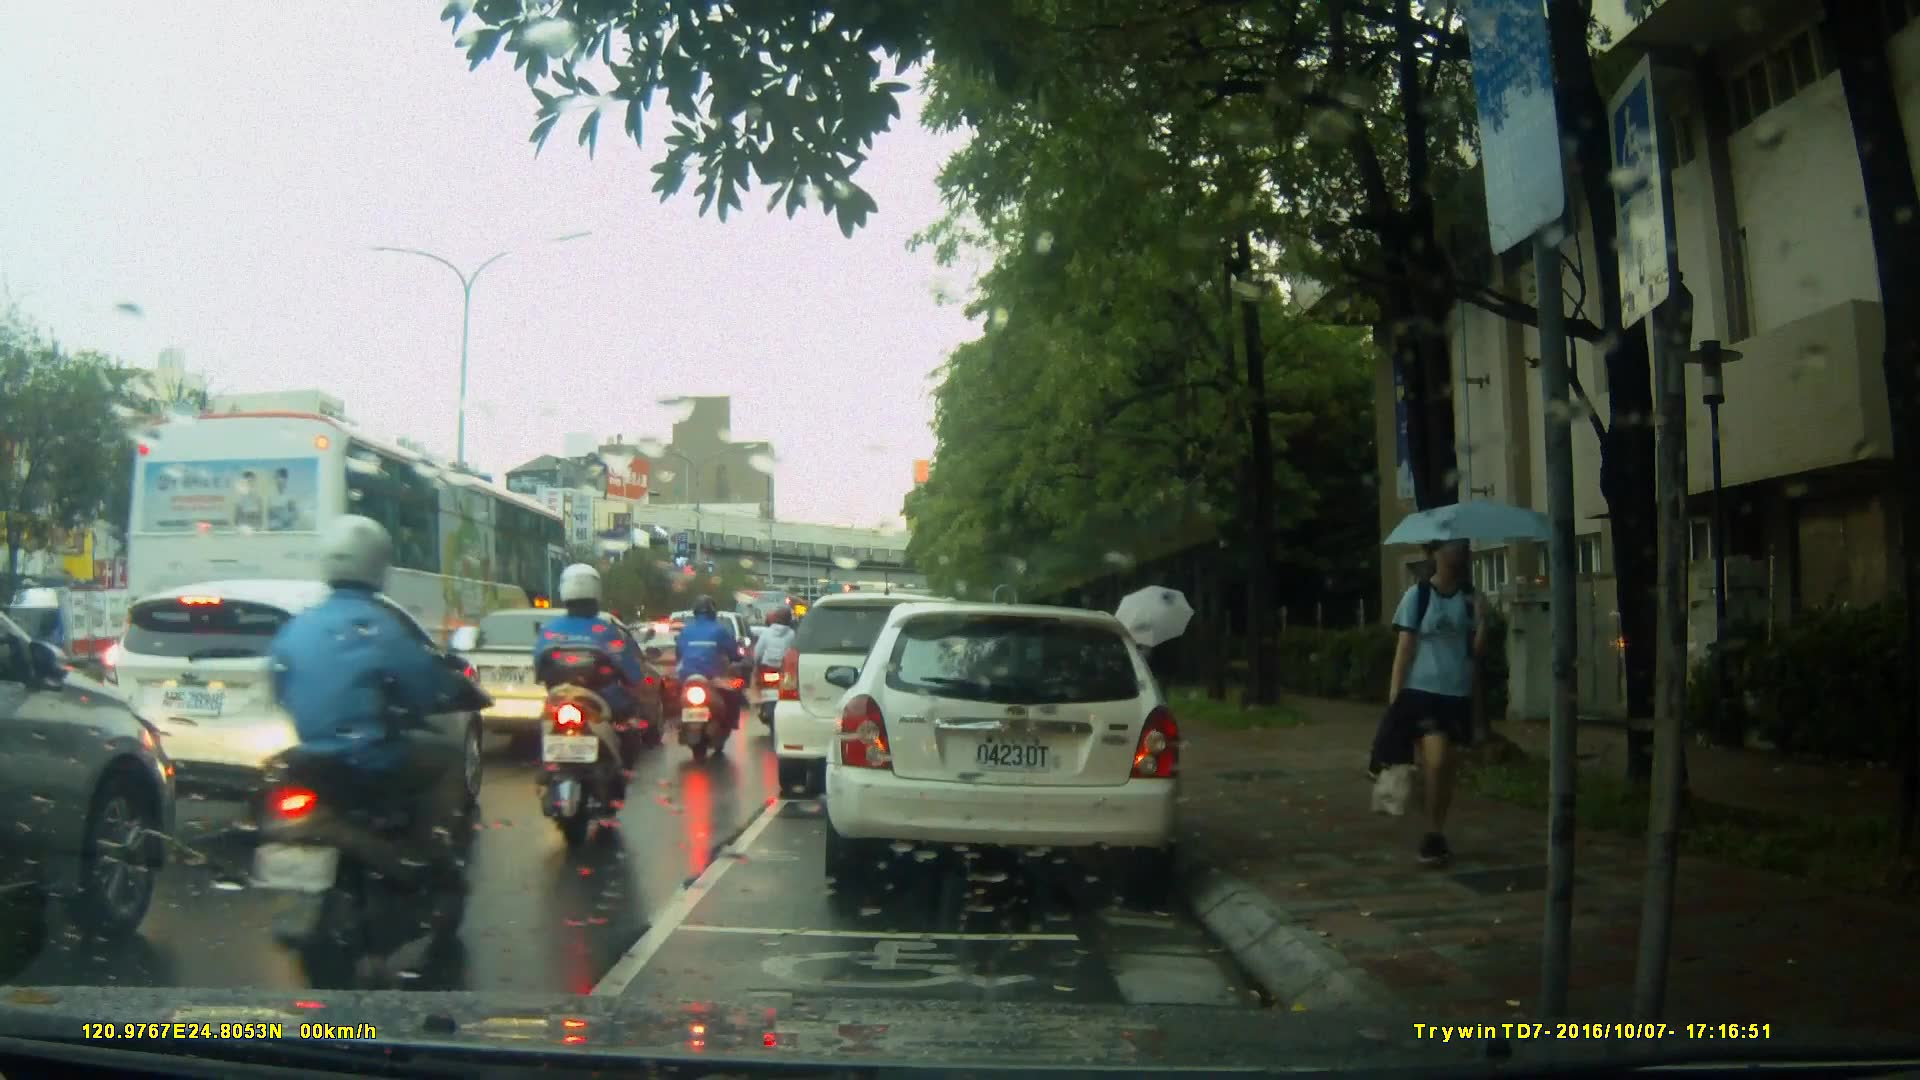pedestrian: (1362, 526, 1517, 875)
rider: (251, 516, 492, 1014), (530, 566, 660, 842), (667, 598, 741, 767), (760, 600, 813, 738)
vehicle: (122, 405, 579, 727), (835, 594, 1194, 898), (98, 576, 486, 846), (776, 590, 1026, 784), (425, 605, 667, 749), (1, 586, 155, 697), (609, 619, 718, 714)
